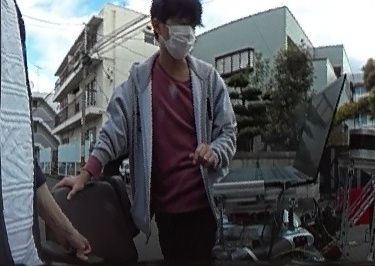person: (88, 0, 241, 266)
